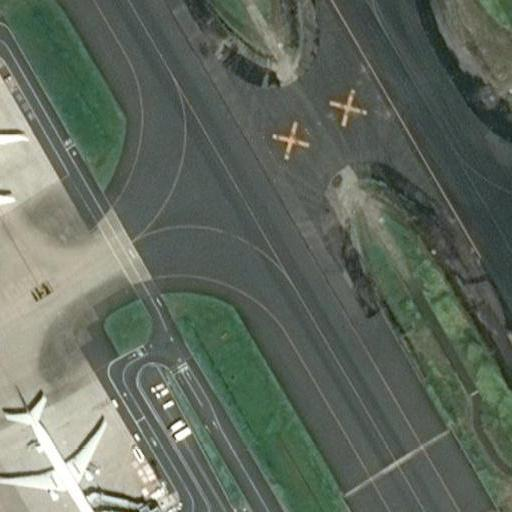Aircraft: (0, 392, 112, 512), (0, 99, 29, 219)
